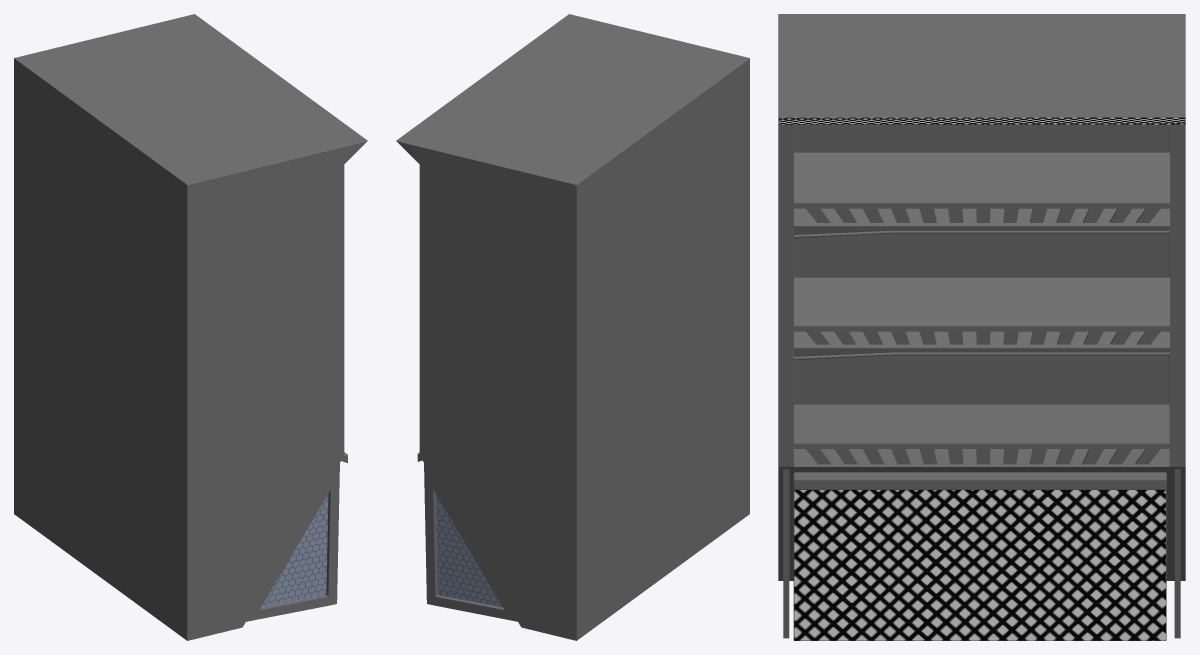
The model's file is SM_Showcase_SM_Showcase.fbx.
3 renders of one model, left to right at view 1: azimuth 30°, elevation 25°; view 2: azimuth 150°, elevation 25°; view 3: azimuth 270°, elevation 25°, orthographic. The views are drawn at different scales.
Visible parts, largest first — view 1: SM_Showcase_SM_Showcase; view 2: SM_Showcase_SM_Showcase; view 3: SM_Showcase_SM_Showcase.
Part boxes in pixels (x1,y1,x2,y2): SM_Showcase_SM_Showcase: (14,14,367,640); SM_Showcase_SM_Showcase: (396,14,749,640); SM_Showcase_SM_Showcase: (778,14,1185,640).
Bounding box in the file's own units: 109 × 182 × 264.
1 material, 1 textured.
